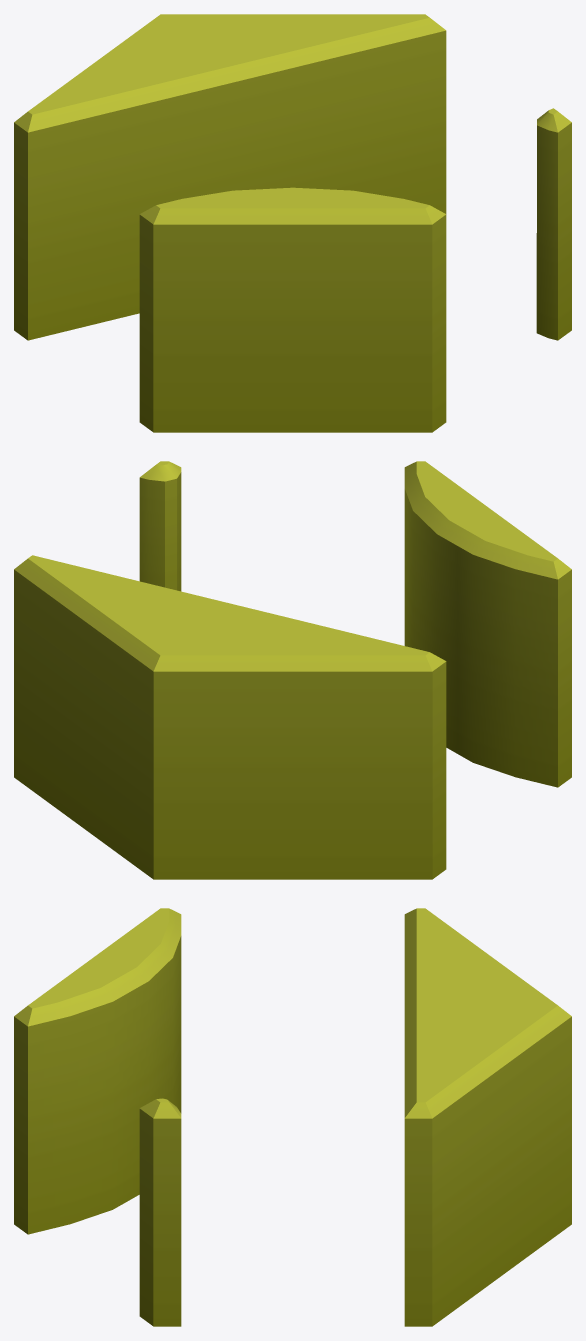
File: kaykit-medieval-hexagon-pack-hex-river-f-waterless.glb
The picture shows the model from 3 angles, top to bottom: view 1: azimuth 30°, elevation 25°; view 2: azimuth 150°, elevation 25°; view 3: azimuth 270°, elevation 25°; orthographic projection.
Parts seen in each view (by area): view 1: hex_river_F_waterless; view 2: hex_river_F_waterless; view 3: hex_river_F_waterless.
Boxes of the visible parts, x1,y1,x2,y2 form: hex_river_F_waterless: [14, 14, 571, 432]; hex_river_F_waterless: [14, 461, 571, 879]; hex_river_F_waterless: [14, 908, 571, 1326].
Bounding box in the file's own units: 2 × 1 × 2.31.
1 material, 1 textured.
